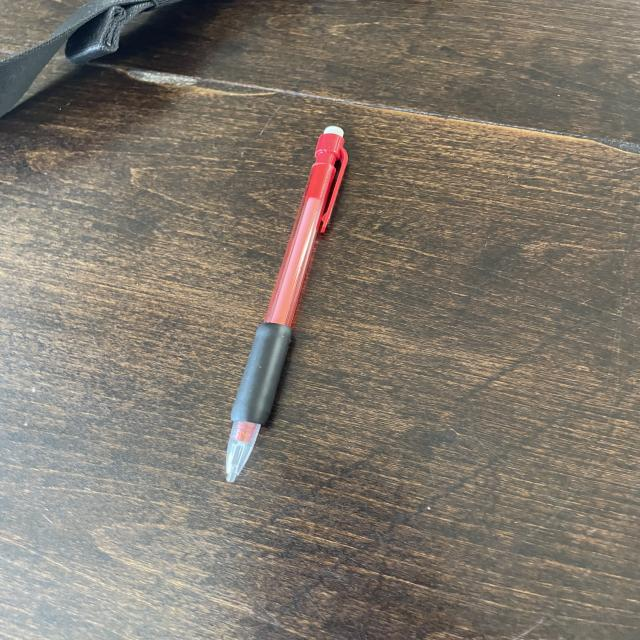mechanical-pencils: (198, 119, 364, 495)
